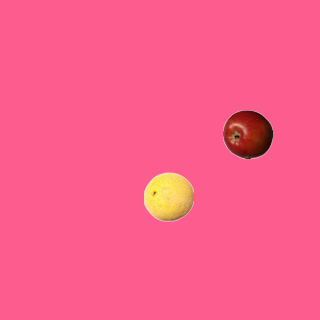Apple Braeburn: (222, 109, 272, 159)
Cantaloupe 1: (143, 171, 193, 221)
